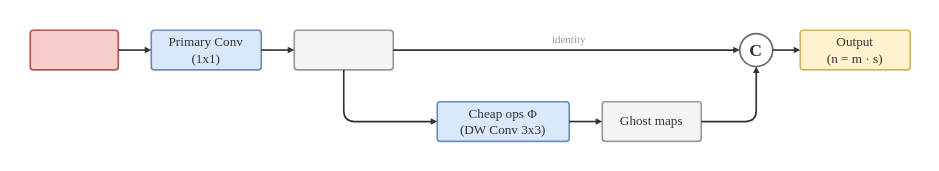
Some shapes in this 939 by 171 pixel diagram are drawn without their labels. The shapes that lost their labels are listed below. From the top down, each one's centre as x and y in pixels, then its label:
(74,49): Input X
(343,49): Intrinsic maps (m)
